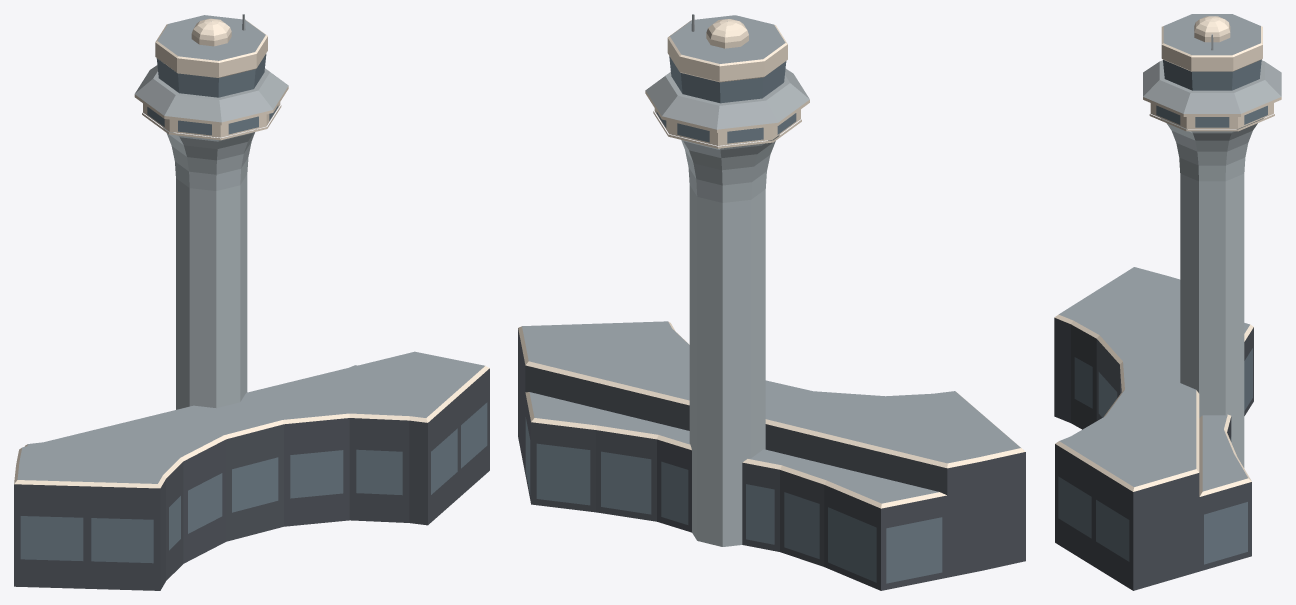
Rendered from chi-ohare-control-tower.glb.
3 views of the same model, side by side, from view 1: azimuth 30°, elevation 25°; view 2: azimuth 150°, elevation 25°; view 3: azimuth 270°, elevation 25° (orthographic). The views are drawn at different scales.
Parts seen in each view (by area): view 1: O'Hare Control Tower; view 2: O'Hare Control Tower; view 3: O'Hare Control Tower.
Boxes of the visible parts, box(x1,y1,x2,y2) form: O'Hare Control Tower: box(14, 14, 489, 590); O'Hare Control Tower: box(518, 14, 1025, 590); O'Hare Control Tower: box(1054, 14, 1281, 590).
Bounding box in the file's own units: 82.6 × 79.2 × 35.4.
